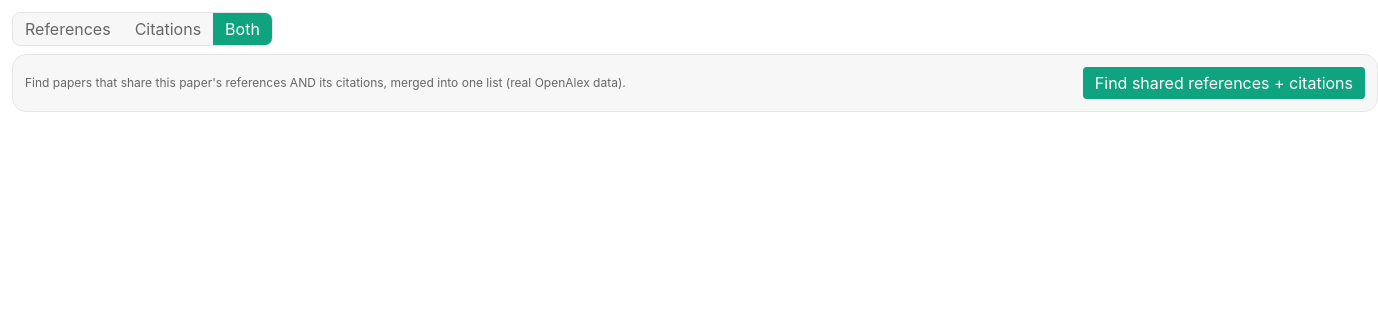
Test: SimilarPapersPanel R08 shared-works visualization › expands to show WHICH works are shared (hydrated titles + links), not just a count
This screenshot has width=1378, height=333.
Click the button "Find shared references + citations".
click(1224, 83)  # box [1083,67,1365,99]
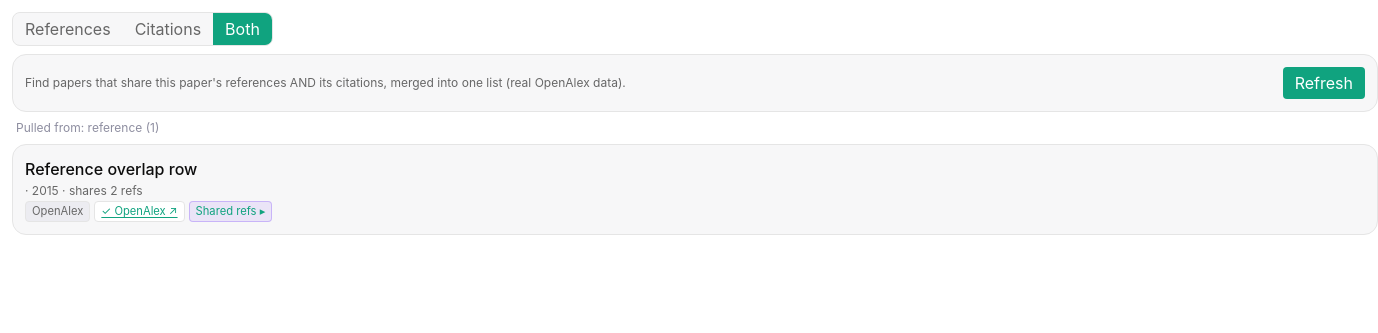
Result: the text "Reference overlap row" is shown at [25,159,197,179]
Click the button "Shared refs ▸".
click(230, 211)  # box [189,201,272,222]
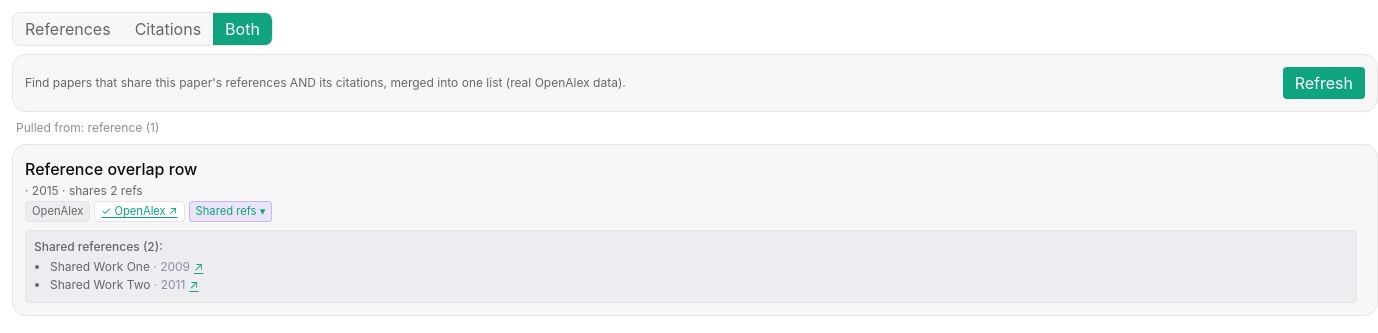
Result: the text "Shared Work One" is shown at [50,259,150,274]
Result: the text "Shared Work Two" is shown at [50,277,150,292]
Result: the text "Shared references (2):" is shown at [34,239,163,254]
